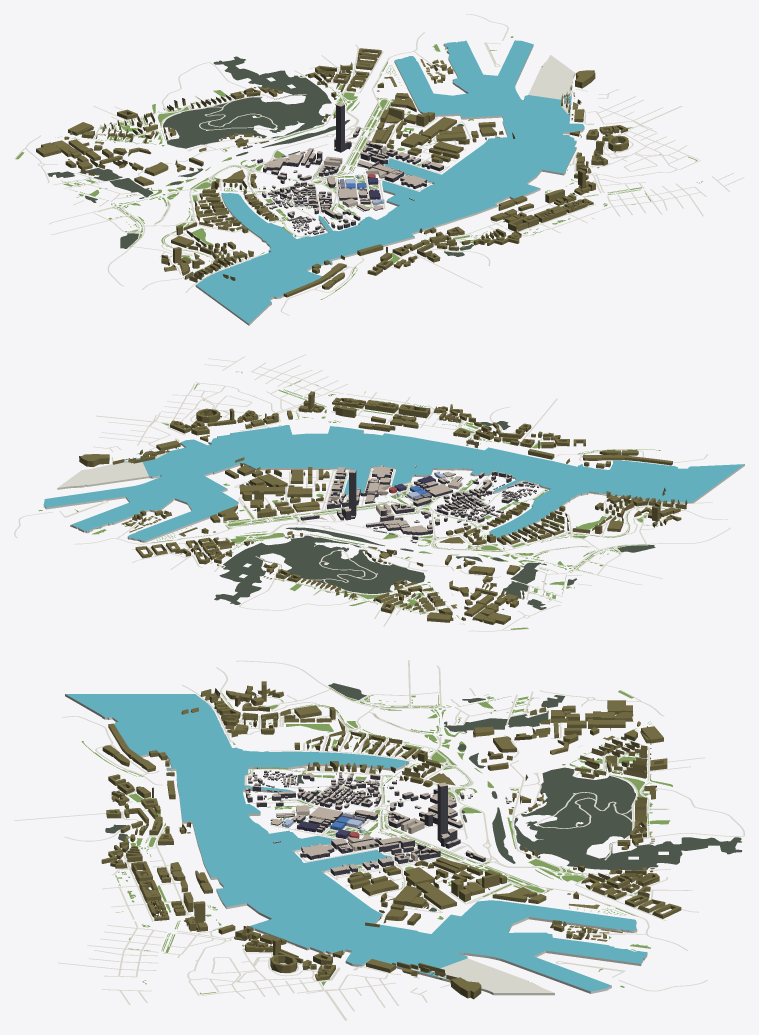
Rendered from lindholmen.glb.
3 views of the same model, one above another, from view 1: azimuth 30°, elevation 25°; view 2: azimuth 150°, elevation 25°; view 3: azimuth 270°, elevation 25° (orthographic). The views are drawn at different scales.
Visible parts, largest first — view 1: water, building.047, pass_forest, building.404, building.017, pass_roads_unclassified, pass_roads_residential, pass_vegetation, pass_roads_pedestrian; view 2: water, building.047, pass_forest, building.404, building.017, pass_roads_unclassified, pass_vegetation, pass_roads_residential, pass_roads_pedestrian; view 3: water, building.047, pass_forest, building.404, building.017, pass_roads_unclassified, pass_roads_residential, pass_vegetation, pass_roads_pedestrian.
Part boxes in pixels (x1,y1,x2,y2): water: [195, 40, 584, 325]; building.047: [36, 48, 514, 282]; pass_forest: [47, 56, 474, 256]; building.404: [283, 70, 628, 297]; building.017: [243, 103, 443, 235]; pass_roads_unclassified: [14, 14, 700, 315]; pass_roads_residential: [51, 44, 744, 287]; pass_vegetation: [16, 36, 702, 299]; pass_roads_pedestrian: [97, 136, 700, 292]; water: [43, 425, 744, 542]; building.047: [121, 457, 687, 624]; pass_forest: [214, 421, 655, 610]; building.404: [79, 391, 672, 468]; building.017: [300, 465, 545, 551]; pass_roads_unclassified: [14, 382, 730, 631]; pass_vegetation: [38, 371, 681, 629]; pass_roads_residential: [93, 354, 679, 626]; pass_roads_pedestrian: [164, 367, 712, 597]; water: [65, 694, 647, 995]; building.047: [181, 681, 681, 941]; pass_forest: [105, 683, 741, 911]; building.404: [101, 723, 481, 999]; building.017: [245, 767, 511, 875]; pass_roads_unclassified: [62, 660, 707, 1020]; pass_roads_residential: [14, 660, 744, 1007]; pass_vegetation: [81, 687, 672, 994]; pass_roads_pedestrian: [118, 685, 561, 995].
Size of what is drawn, in the model's own units: 3388 by 255 by 2902.
